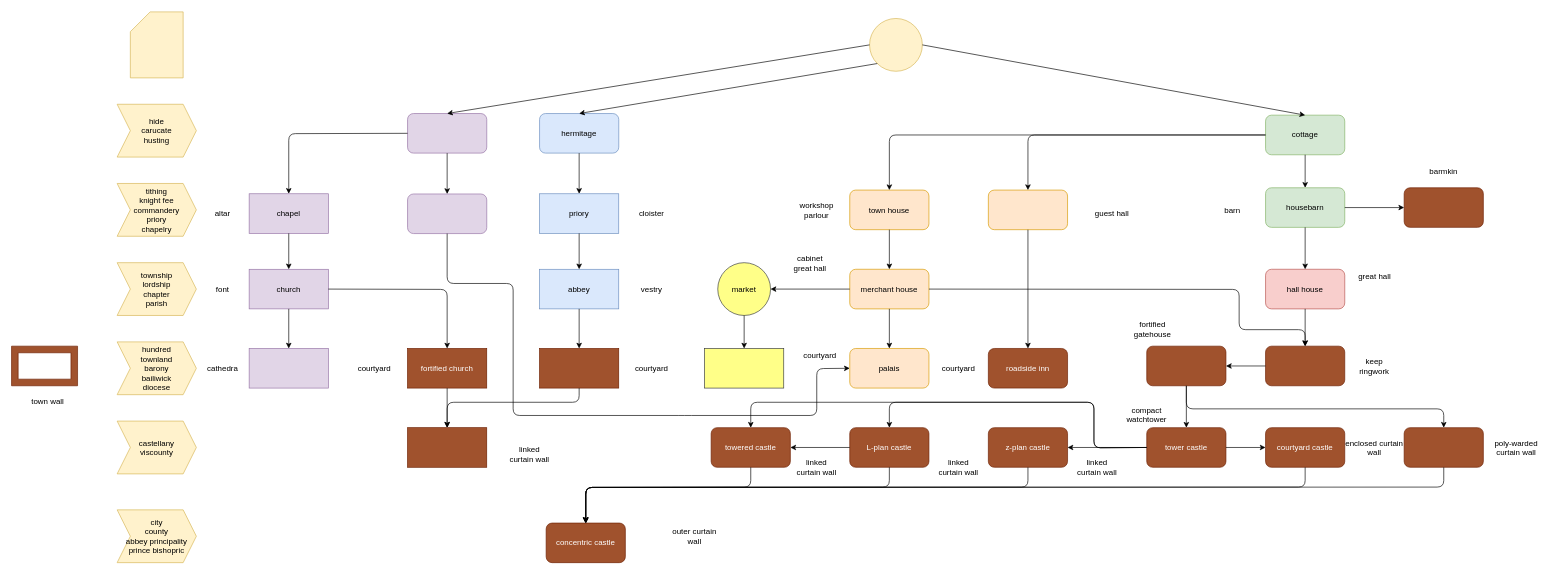
Some shapes in this 1554 by 574 pixel diagram are drawn without their labels. Here are the shapes that lost their labels. From the top down, the centre of each, then its label:
At point 156,44: "virgate yardland".
At point 895,44: "tillable land".
At point 447,133: "vicarage".
At point 447,213: "rectory".
At point 1028,209: "inn".
At point 1443,207: "bastle house".
At point 288,368: "cathedral".
At point 579,368: "fortified abbey".
At point 744,368: "town hall".
At point 1186,366: "gatehouse-keep".
At point 1305,366: "hall keep".
At point 447,447: "church fortress".
At point 1443,447: "motte-and-bailey castle".
